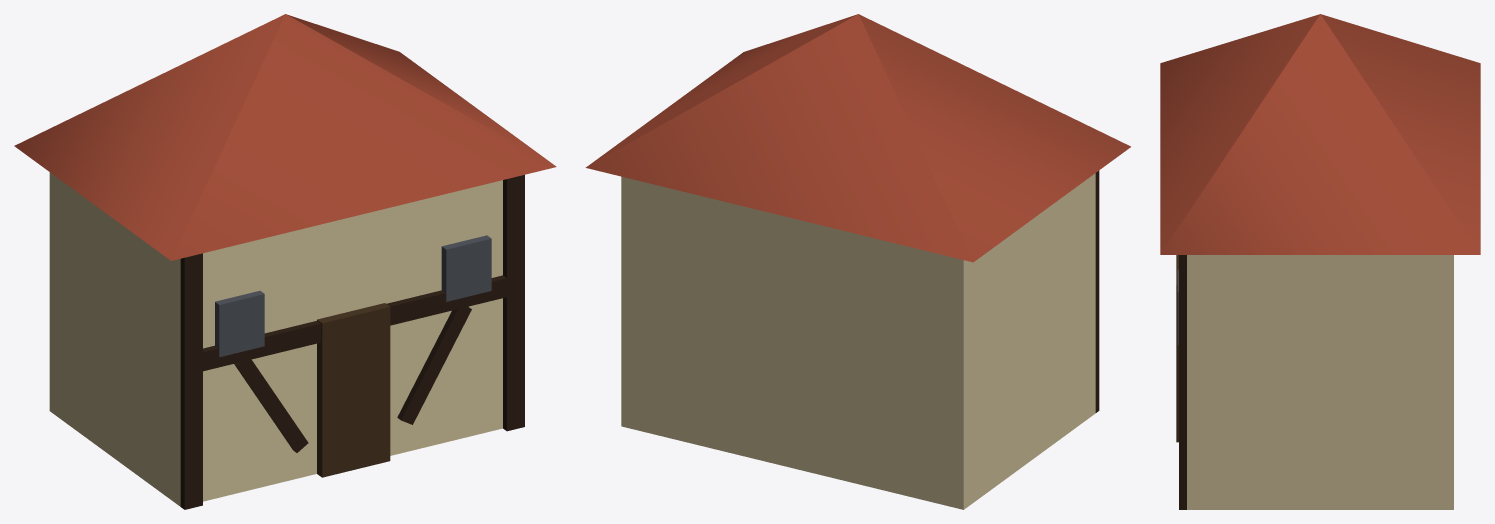
The model's file is timber-house.glb.
The picture shows the model from 3 angles, left to right: view 1: azimuth 30°, elevation 25°; view 2: azimuth 150°, elevation 25°; view 3: azimuth 270°, elevation 25°; orthographic projection.
Size of the model in its own units: 1.7 by 1.7 by 1.2.
